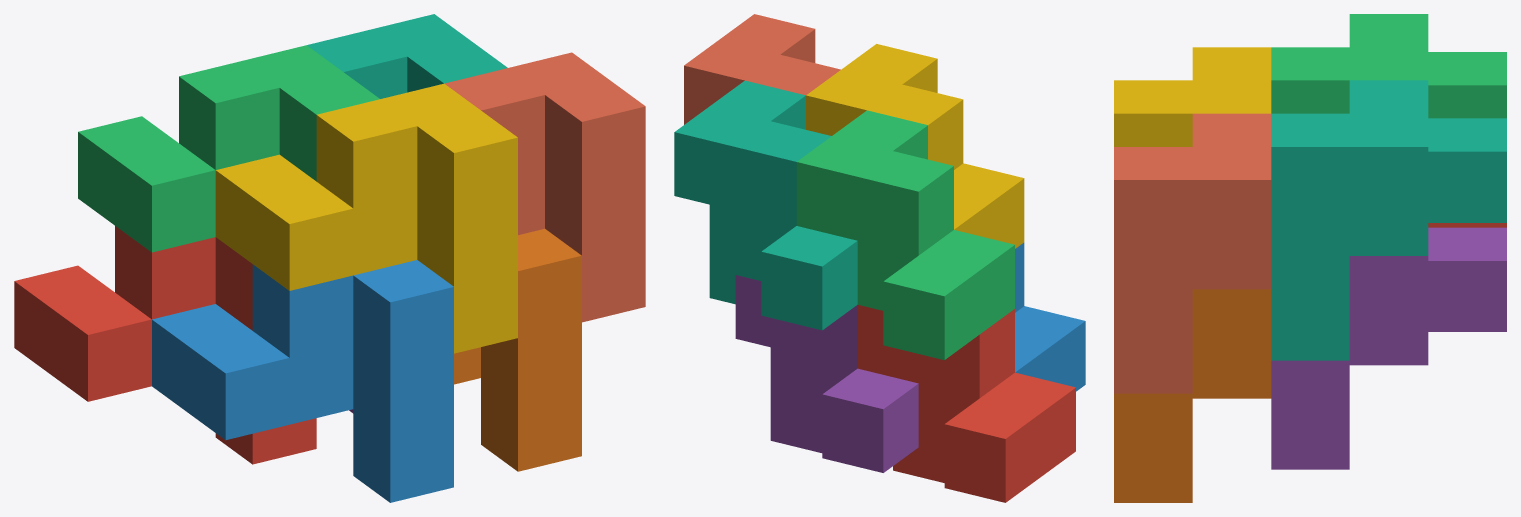
File: tiling.obj
3 views of the same model, side by side, from view 1: azimuth 30°, elevation 25°; view 2: azimuth 150°, elevation 25°; view 3: azimuth 270°, elevation 25° (orthographic). The views are drawn at different scales.
Visible parts, largest first — view 1: copy_1_domain_4, copy_1_domain_2, copy_1_domain_3, copy_1_domain_8, copy_1_domain_1, copy_1_domain_6, copy_1_domain_7; view 2: copy_1_domain_3, copy_1_domain_7, copy_1_domain_1, copy_1_domain_5, copy_1_domain_4, copy_1_domain_8, copy_1_domain_2; view 3: copy_1_domain_7, copy_1_domain_8, copy_1_domain_5, copy_1_domain_6, copy_1_domain_3, copy_1_domain_4.
Boxes of the visible parts, x1=… form: copy_1_domain_4: x1=215, y1=83, x2=517, y2=353; copy_1_domain_2: x1=152, y1=260, x2=453, y2=502; copy_1_domain_3: x1=78, y1=45, x2=379, y2=252; copy_1_domain_8: x1=444, y1=52, x2=645, y2=322; copy_1_domain_1: x1=14, y1=226, x2=316, y2=464; copy_1_domain_6: x1=454, y1=228, x2=581, y2=471; copy_1_domain_7: x1=307, y1=14, x2=507, y2=98; copy_1_domain_3: x1=796, y1=110, x2=1014, y2=360; copy_1_domain_7: x1=674, y1=80, x2=857, y2=330; copy_1_domain_1: x1=857, y1=305, x2=1075, y2=502; copy_1_domain_5: x1=735, y1=275, x2=918, y2=472; copy_1_domain_4: x1=806, y1=44, x2=1024, y2=248; copy_1_domain_8: x1=684, y1=14, x2=840, y2=124; copy_1_domain_2: x1=1015, y1=242, x2=1085, y2=391; copy_1_domain_7: x1=1271, y1=80, x2=1506, y2=360; copy_1_domain_8: x1=1114, y1=113, x2=1271, y2=393; copy_1_domain_5: x1=1271, y1=227, x2=1506, y2=469; copy_1_domain_6: x1=1114, y1=289, x2=1271, y2=502; copy_1_domain_3: x1=1271, y1=14, x2=1506, y2=118; copy_1_domain_4: x1=1114, y1=47, x2=1271, y2=146.
Bounding box in the file's own units: 7 × 5 × 5.
